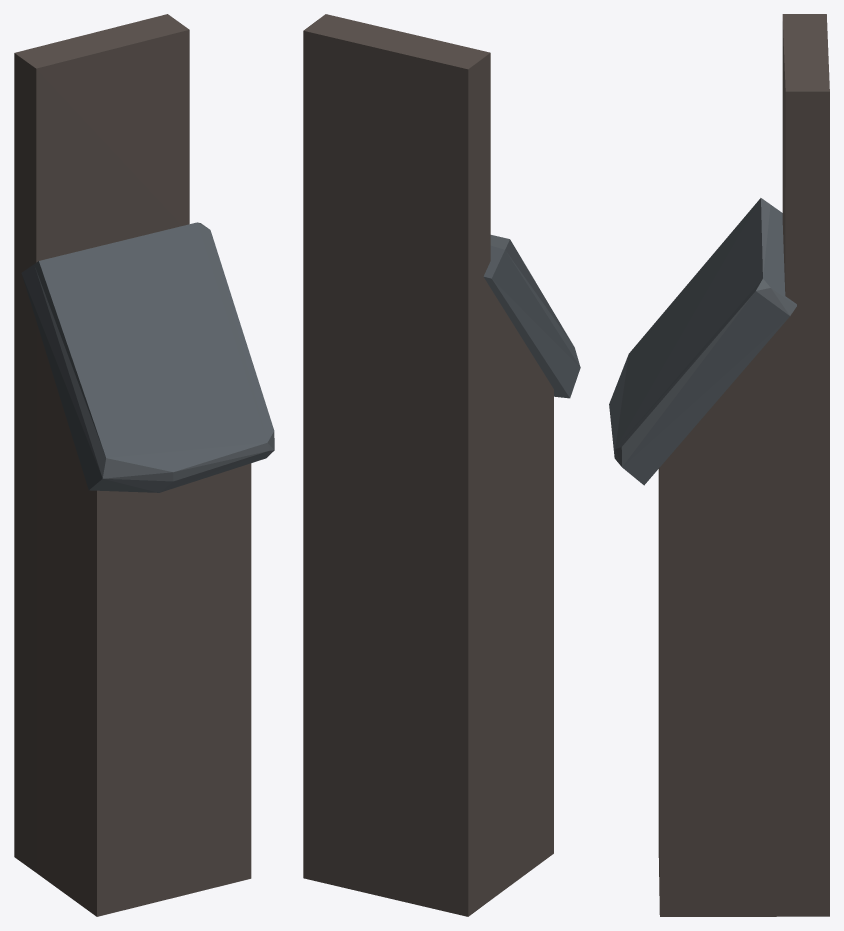
The model's file is MCastle_CropWalls_05.FBX.
3 views of the same model, side by side, from view 1: azimuth 30°, elevation 25°; view 2: azimuth 150°, elevation 25°; view 3: azimuth 270°, elevation 25° (orthographic). The views are drawn at different scales.
Visible parts, largest first — view 1: MCastle_CropWalls_05_LOD0; view 2: MCastle_CropWalls_05_LOD0; view 3: MCastle_CropWalls_05_LOD0.
Part boxes in pixels (x1,y1,x2,y2): MCastle_CropWalls_05_LOD0: [14, 14, 274, 916]; MCastle_CropWalls_05_LOD0: [303, 14, 580, 916]; MCastle_CropWalls_05_LOD0: [609, 14, 829, 916].
Size of what is drawn, in the model's own units: 1.02 by 4.5 by 1.09.
